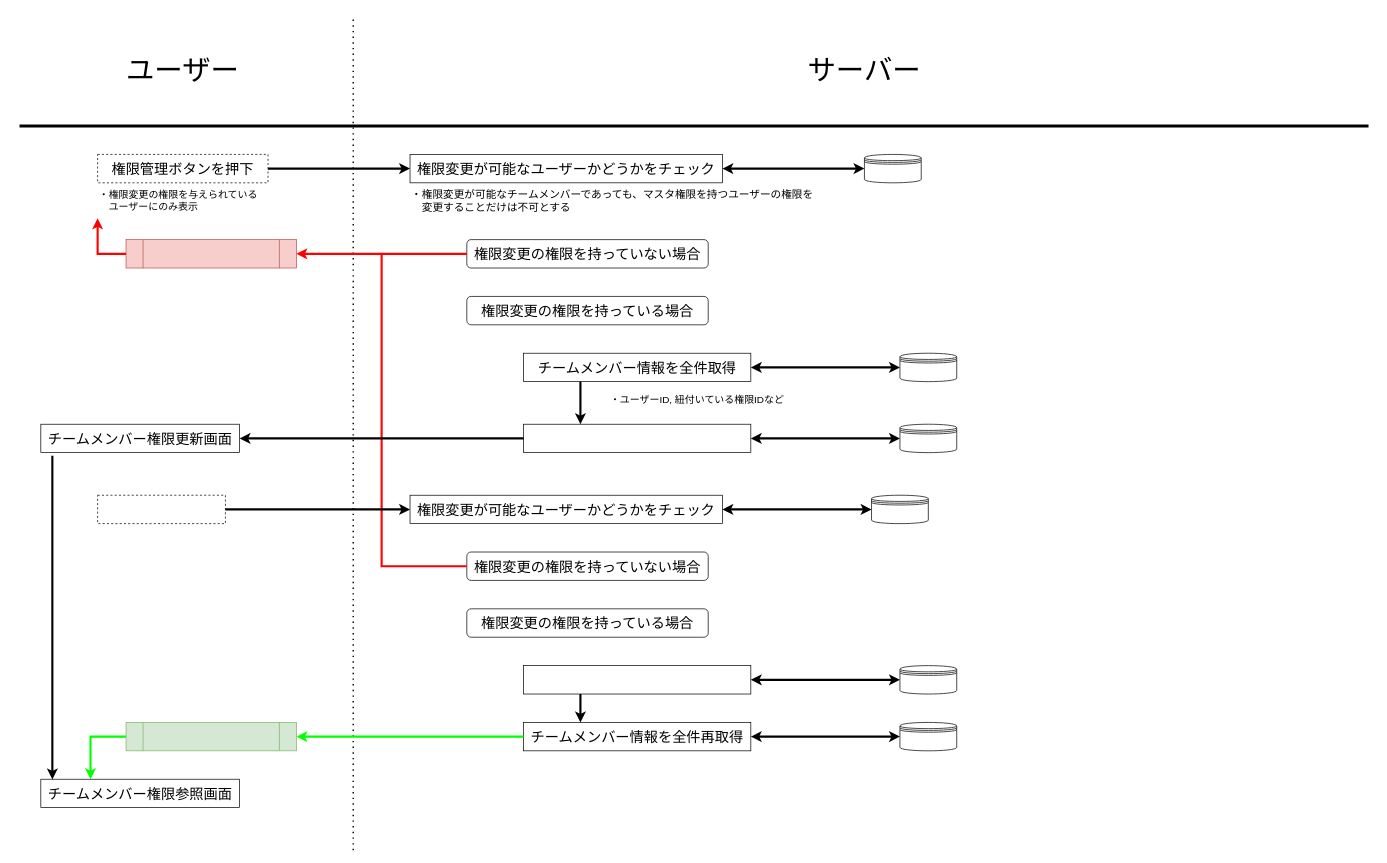
The diagram is 1387 pixels wide and 863 high, and some of its shapes have lost their labels. Here are the shapes that lost their labels. From the top down, the box of each, then its label:
(125, 239, 296, 268): エラーメッセージ表示
(523, 424, 751, 453): 権限マスタを全件取得
(97, 495, 225, 524): 更新ボタンを押下
(523, 665, 751, 694): チームメンバー情報を更新
(125, 722, 296, 751): サクセスメッセージ表示
